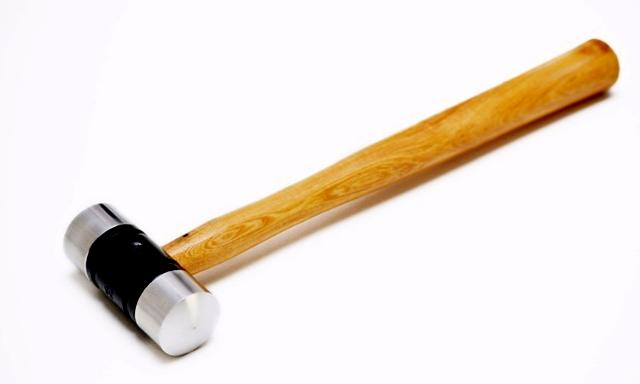hammer: (58, 33, 624, 363)
